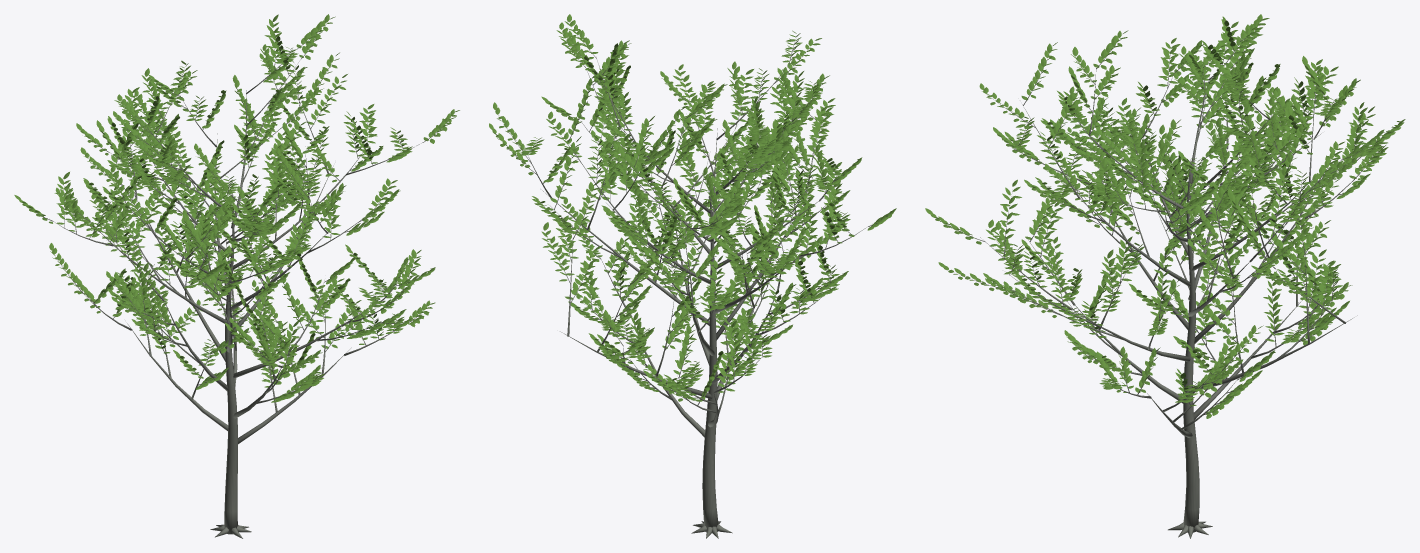
Rendered from Beech_Mature_02_Unpruned_LOD0.fbx.
The picture shows the model from 3 angles, left to right: view 1: azimuth 30°, elevation 25°; view 2: azimuth 150°, elevation 25°; view 3: azimuth 270°, elevation 25°; orthographic projection. The views are drawn at different scales.
Parts seen in each view (by area): view 1: Beech_Mature_02_Unpruned_LOD0; view 2: Beech_Mature_02_Unpruned_LOD0; view 3: Beech_Mature_02_Unpruned_LOD0.
Boxes of the visible parts, x1,y1,x2,y2 form: Beech_Mature_02_Unpruned_LOD0: (14,14,459,538); Beech_Mature_02_Unpruned_LOD0: (489,14,896,538); Beech_Mature_02_Unpruned_LOD0: (925,14,1405,538).
Size of the model in its own units: 1936 by 2301 by 1926.
Materials: 2 (1 with a texture image).
